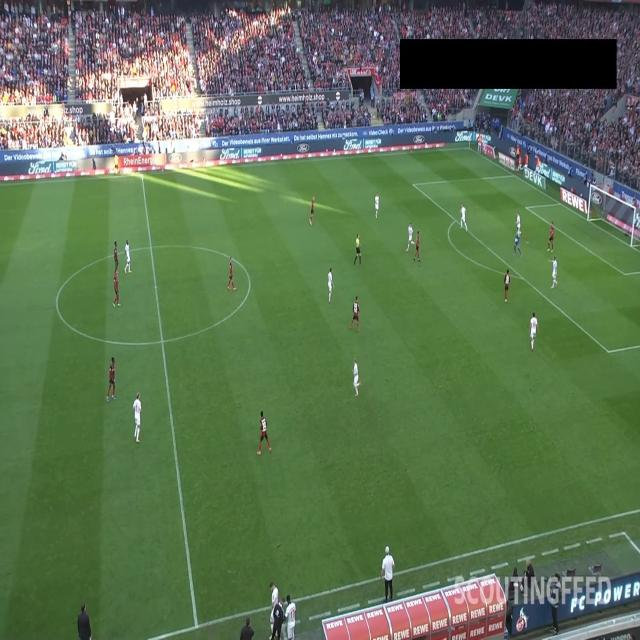ball: (515, 237, 518, 242)
